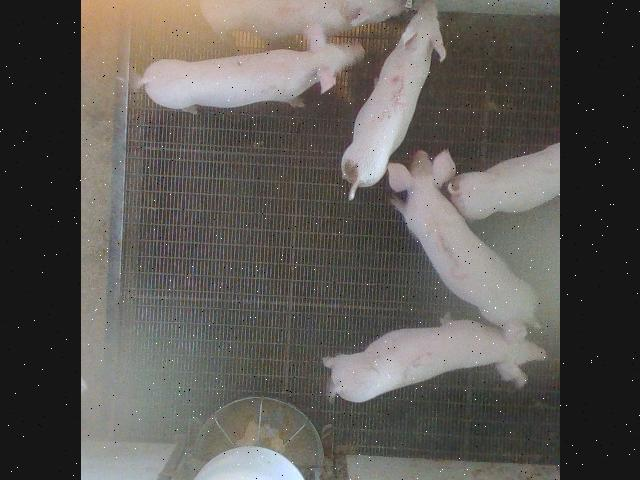pig-3: (388, 151, 535, 340)
pig-4: (199, 0, 404, 39)
pig-5: (341, 1, 445, 199)
